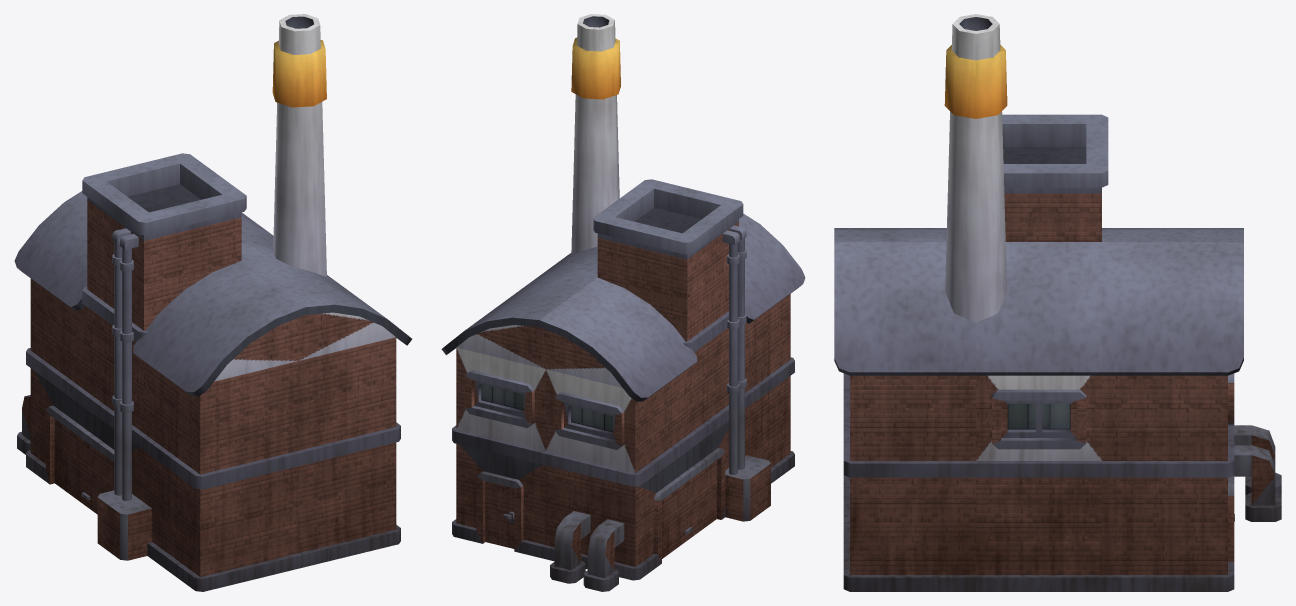
The model's file is building-n-brown.glb.
3 views of the same model, side by side, from view 1: azimuth 30°, elevation 25°; view 2: azimuth 150°, elevation 25°; view 3: azimuth 270°, elevation 25° (orthographic). The views are drawn at different scales.
Visible parts, largest first — view 1: building-n; view 2: building-n; view 3: building-n.
Part boxes in pixels (box(x1,y1,x2,y2)): building-n: box(14, 14, 411, 591); building-n: box(441, 14, 805, 591); building-n: box(834, 14, 1281, 591).
Bounding box in the file's own units: 0.9766 × 1.9 × 1.42.
Materials: 1 (1 with a texture image).
